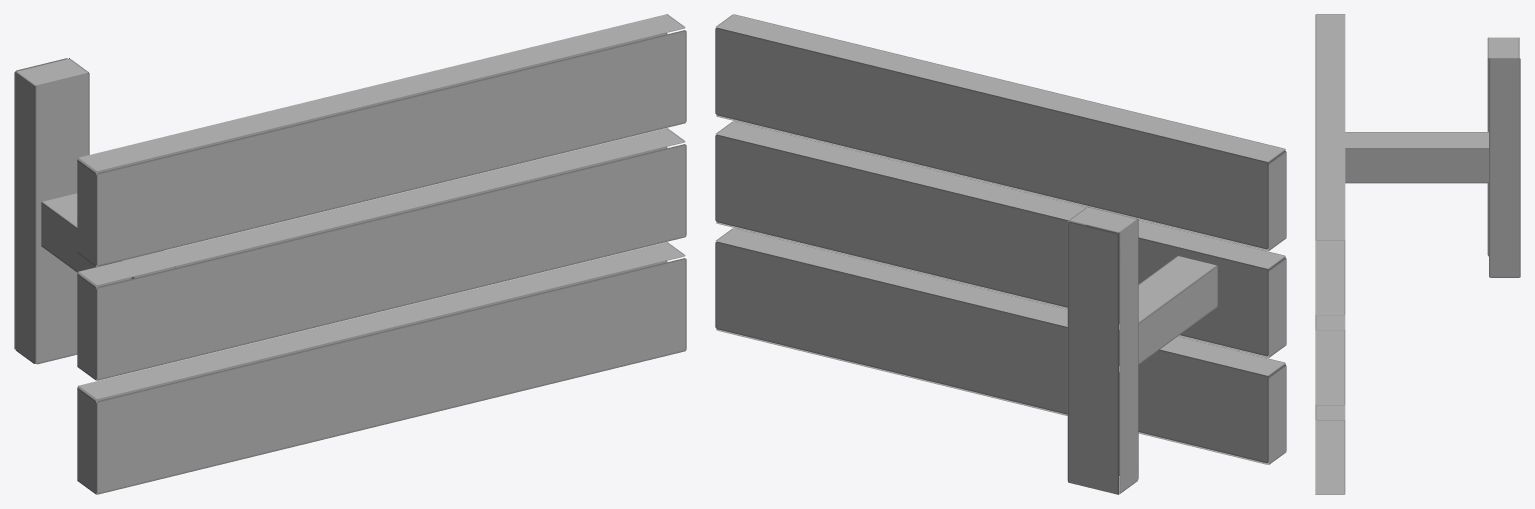
Rendered from pz_benche_seating_indoor_03_sports_0_0.obj.
The picture shows the model from 3 angles, left to right: view 1: azimuth 30°, elevation 25°; view 2: azimuth 150°, elevation 25°; view 3: azimuth 270°, elevation 25°; orthographic projection. The views are drawn at different scales.
Visible parts, largest first — view 1: root; view 2: root; view 3: root.
Part boxes in pixels (x1,y1,x2,y2): root: (14,14,686,494); root: (715,14,1286,494); root: (1315,14,1520,494).
Bounding box in the file's own units: 0.975 × 0.51 × 0.3738.
Materials: 1 (1 with a texture image).
